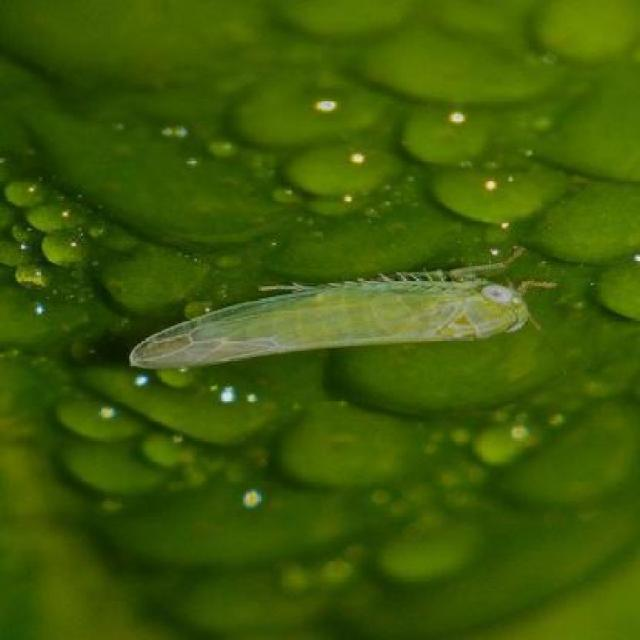green-leafhopper: (125, 262, 537, 369)
